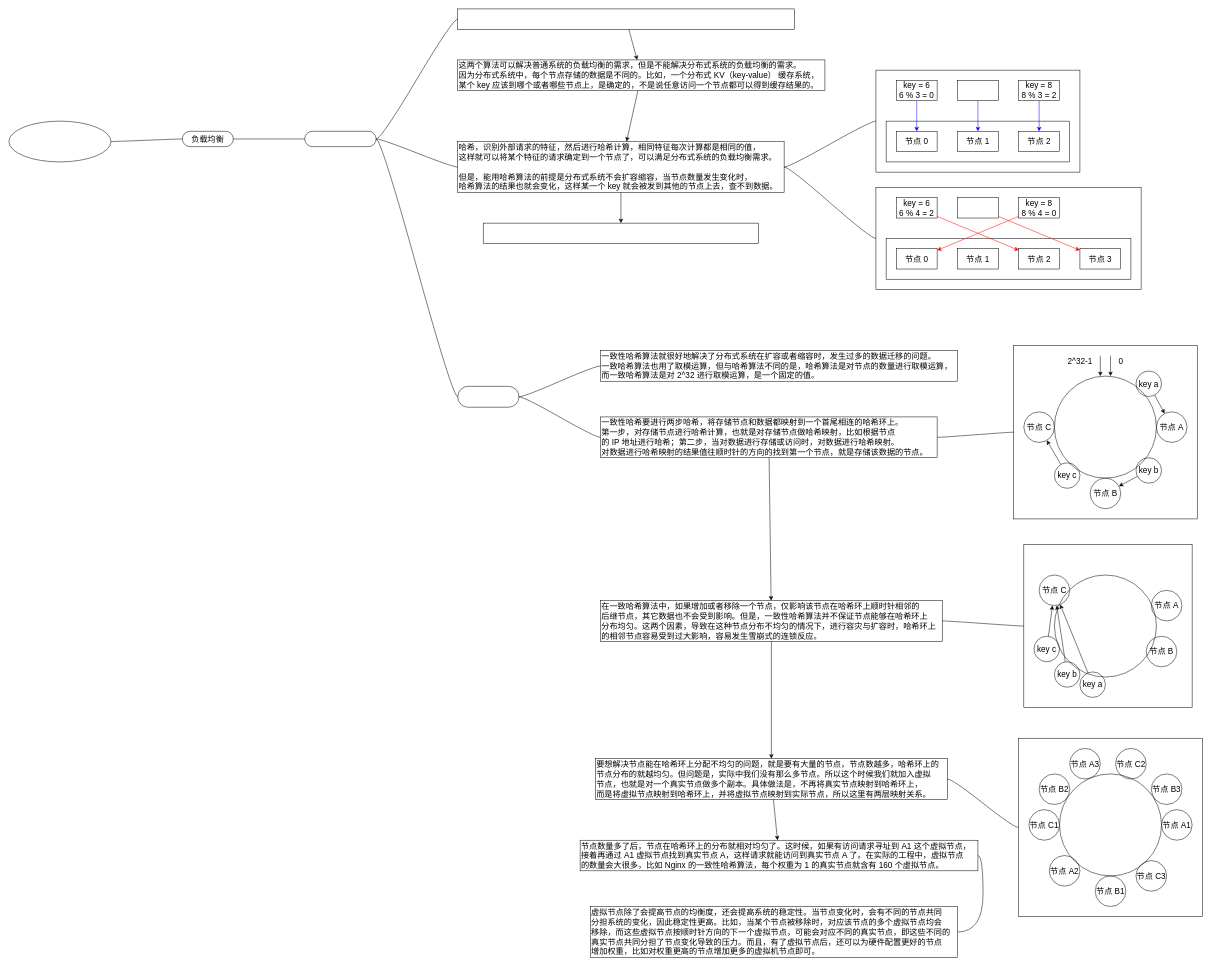
This 1211x966 diagram has some shape labels left out. The shapes that lost their labels are listed below. From the top down, each one's centre as x and y in pixels, then its label:
point 625,18: 轮询， 将外界的请求轮流的转发给内部的集群。 加权轮询，将外界的请求根据内部各个节点的权重值，按照一定比例分配在不同的节点上。
point 977,90: key = 7 7 % 3 = 1
point 59,141: 网络系统
point 340,139: 负载均衡算法
point 977,207: key = 7 7 % 4 = 3
point 621,233: 要解决这个问题，就需要进行数据迁移，最坏情况下所有数据都需要迁移， 所以它的数据迁移规模是 O(M)，这样数据的迁移成本太高了。
point 488,396: 一致性哈希
